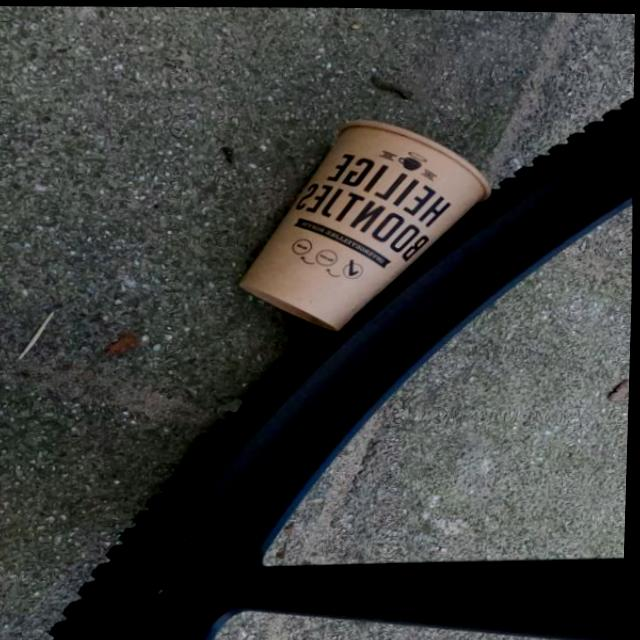Cup: (228, 110, 498, 337)
